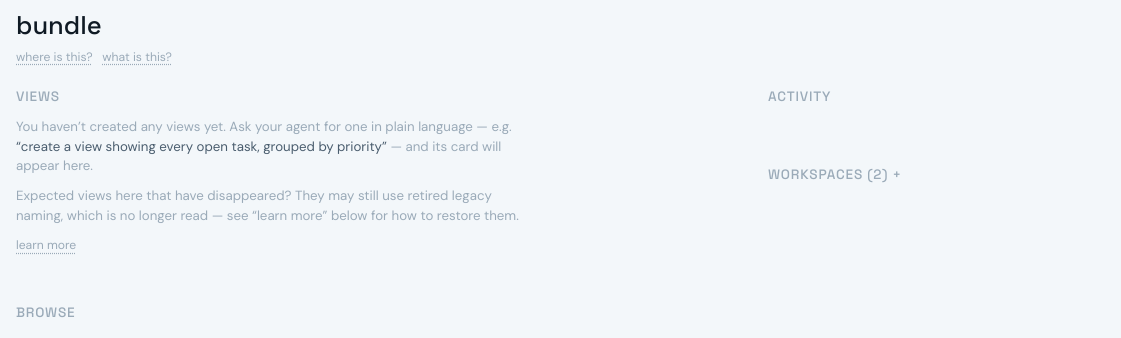
Test: home surface › workspaces block is COLLAPSED by default; expanding reveals rows, then per-row paths
The width and height of the screenshot is (1121, 338).
Click the button with class "workspaces-toggle": (835, 175) [768,165,902,185]
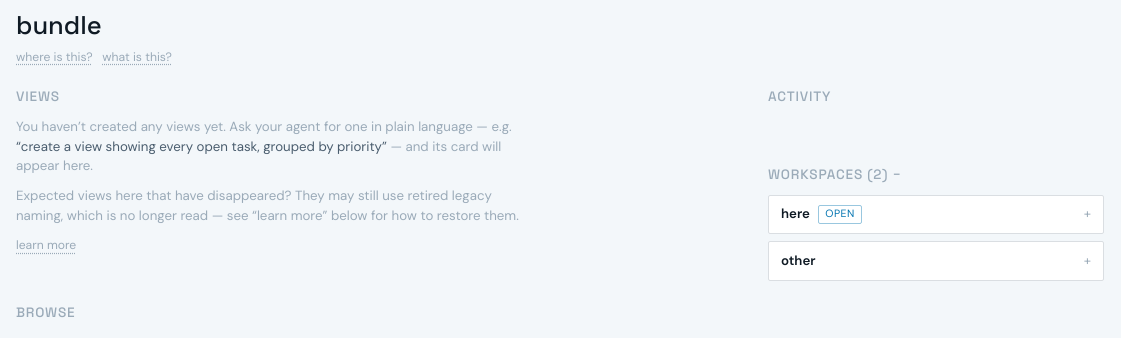
Check: the text "/tmp/other" is not shown
Check: the number of list items with class "workspace" is 2, box [768,195,1104,234]; [768,241,1104,281]
Click the button with class "workspace-row" showing "other +": (798, 261) [781,251,1091,271]
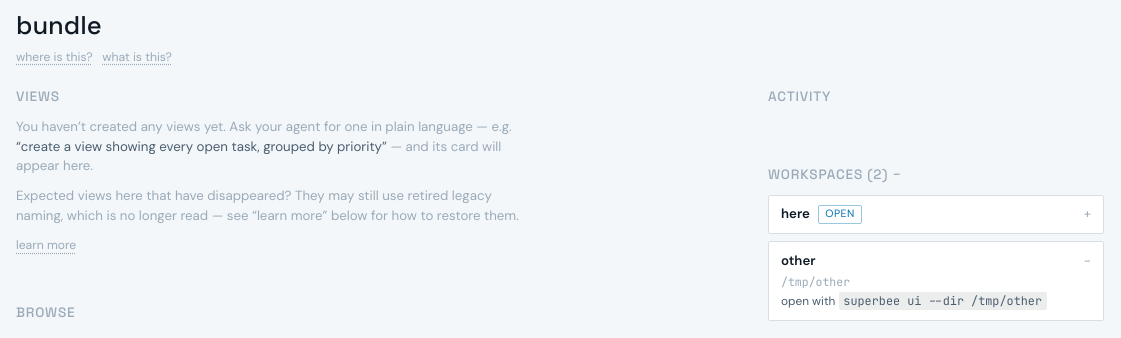
Check: the text "/tmp/other" is shown, box [781,274,850,289]
Check: the text "superbee ui --dir /tmp/other" is shown, box [838,292,1047,310]
